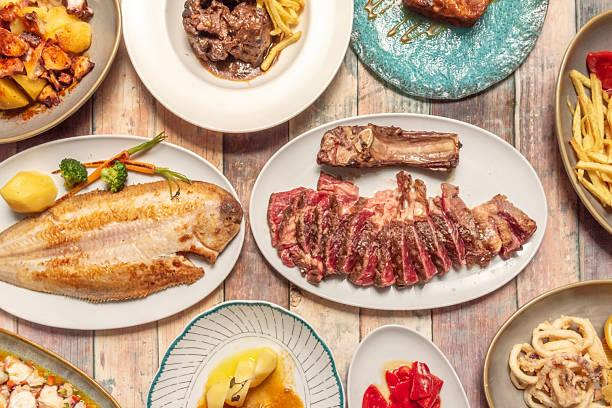Braised Crucian Carp: (251, 113, 544, 307), (0, 134, 239, 330), (123, 0, 348, 134)
